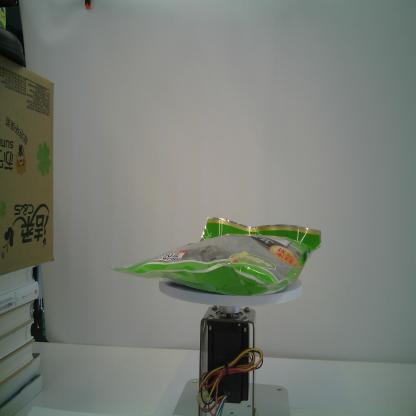Dried Food: (107, 216, 322, 297)
